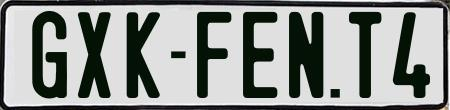4: (390, 12, 430, 102)
E: (243, 11, 282, 101)
F: (194, 12, 228, 103)
G: (29, 10, 67, 98)
K: (124, 12, 162, 101)
N: (286, 9, 322, 99)
T: (346, 10, 380, 100)
X: (77, 9, 114, 97)
